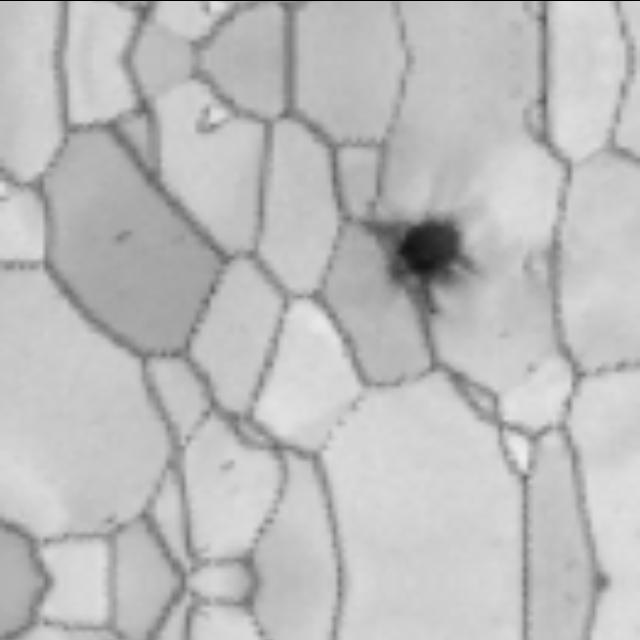good_void: (375, 210, 476, 316), (111, 225, 137, 247)
